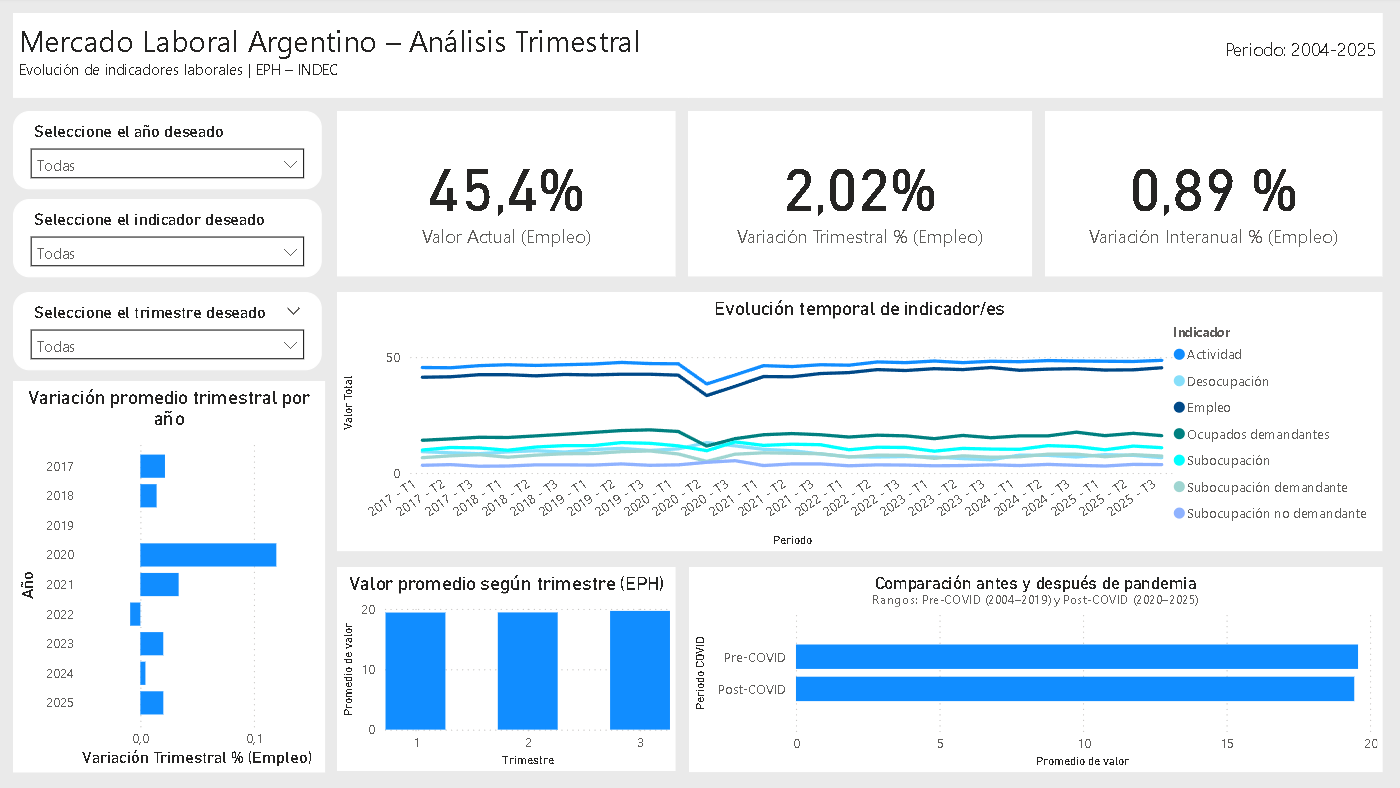

What the dashboard file says about the page in this screenshot:
{"tool":"powerbi","page":{"name":"Página 1","canvas":[1280,720],"ordinal":0},"visuals":[{"type":"lineChart","title":"Evolución temporal de indicador/es","fields":{"Category":["anual.Periodo"],"Y":["anual.Valor Total"],"Series":["anual.Indicador_Limpio"]},"box":[310.9,267.8,948.2,235.1],"z":0},{"type":"slicer","fields":{"Values":["anual.Indicador_Limpio"]},"box":[17,182.9,279.5,70.5],"z":1000},{"type":"slicer","fields":{"Values":["anual.anio"]},"box":[17,103.2,279.5,70.5],"z":2000},{"type":"textbox","box":[17,14.4,612.6,77.1],"z":3000},{"type":"slicer","fields":{"Values":["anual.trimestre"]},"box":[17,267.8,279.5,70.5],"z":4000},{"type":"textbox","box":[629.6,14.4,629.6,77.1],"z":5000},{"type":"card","title":"Valor actual","fields":{"Values":["anual.Valor Actual"]},"box":[310.9,103.2,306.9,150.2],"z":6000},{"type":"clusteredColumnChart","title":"Valor promedio según trimestre (EPH)","fields":{"Category":["anual.trimestre"],"Y":["Avg(anual.valor)"]},"box":[310.9,517.2,306.9,185.5],"z":7000},{"type":"clusteredBarChart","title":"Variación promedio trimestral por año","fields":{"Category":["anual.anio"],"Y":["anual.Variación Trimestral %"]},"box":[17.2,348.2,282.9,354.6],"z":8000},{"type":"card","title":"Variación trimestral","fields":{"Values":["anual.Variación Trimestral %"]},"box":[629.6,103.2,312.2,150.2],"z":9000},{"type":"card","title":"Variación interanual","fields":{"Values":["anual.Variación Interanual % (Empleo)"]},"box":[953.5,103.2,305.6,150.2],"z":10000},{"type":"clusteredBarChart","title":"Comparación antes y después de pandemia","fields":{"Category":["anual.Periodo COVID"],"Y":["Avg(anual.valor)"]},"box":[630.1,517.2,628.6,186.1],"z":11000}]}

Visuals, with their boxes in screenshot pixels (x1, y1, x2, y2), scaled from the page's 1280x720 canvas onto the 1400x788 screenshot:
"Evolución temporal de indicador/es" lineChart: region(340, 293, 1377, 550)
slicer - anual.Indicador_Limpio: region(19, 200, 324, 277)
slicer - anual.anio: region(19, 113, 324, 190)
textbox: region(19, 16, 689, 100)
slicer - anual.trimestre: region(19, 293, 324, 370)
textbox: region(689, 16, 1377, 100)
"Valor actual" card: region(340, 113, 676, 277)
"Valor promedio según trimestre (EPH)" clusteredColumnChart: region(340, 566, 676, 769)
"Variación promedio trimestral por año" clusteredBarChart: region(19, 381, 328, 769)
"Variación trimestral" card: region(689, 113, 1030, 277)
"Variación interanual" card: region(1043, 113, 1377, 277)
"Comparación antes y después de pandemia" clusteredBarChart: region(689, 566, 1377, 770)
